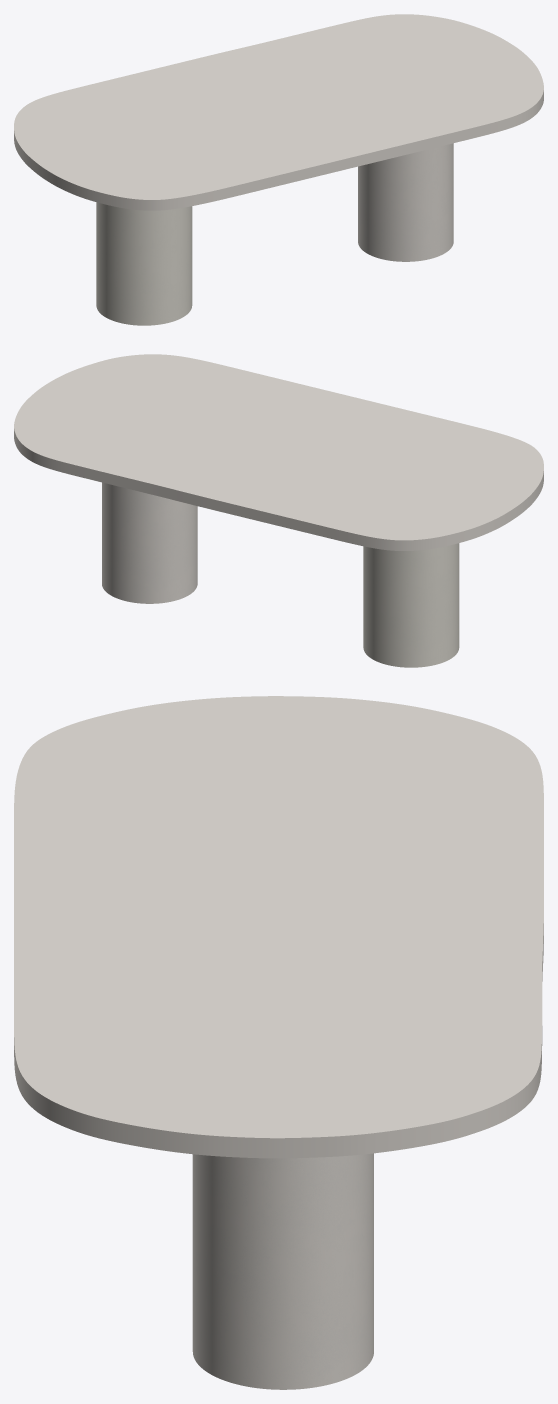
File: pearlwhite_oval_standard_stream.glb
3 renders of one model, top to bottom at view 1: azimuth 30°, elevation 25°; view 2: azimuth 150°, elevation 25°; view 3: azimuth 270°, elevation 25°, orthographic. The views are drawn at different scales.
Parts seen in each view (by area): view 1: standard_oval, stream; view 2: standard_oval, stream; view 3: standard_oval, stream.
Part boxes in pixels (<box>): standard_oval: <box>14,14,543,210</box>; stream: <box>96,143,453,325</box>; standard_oval: <box>14,354,543,550</box>; stream: <box>102,482,459,667</box>; standard_oval: <box>14,696,543,1158</box>; stream: <box>192,1153,373,1389</box>.
Bounding box in the file's own units: 7.5 × 2.5 × 3.8.
2 materials, 2 textured.
